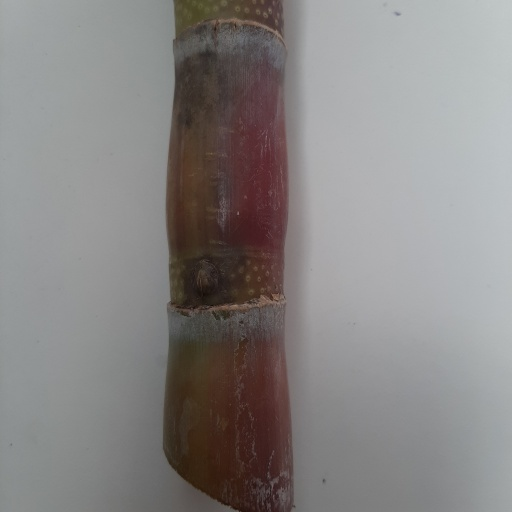Bud: (189, 256, 219, 298)
